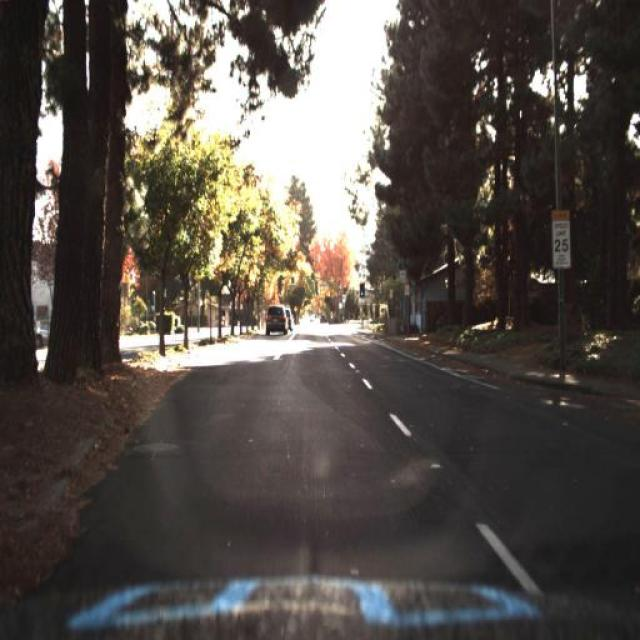car: (262, 300, 286, 332), (32, 316, 49, 344), (286, 306, 292, 334)
trafficLight-Green: (358, 285, 368, 305)
trafficLight-GreenLeft: (308, 266, 318, 290), (286, 270, 296, 292)
